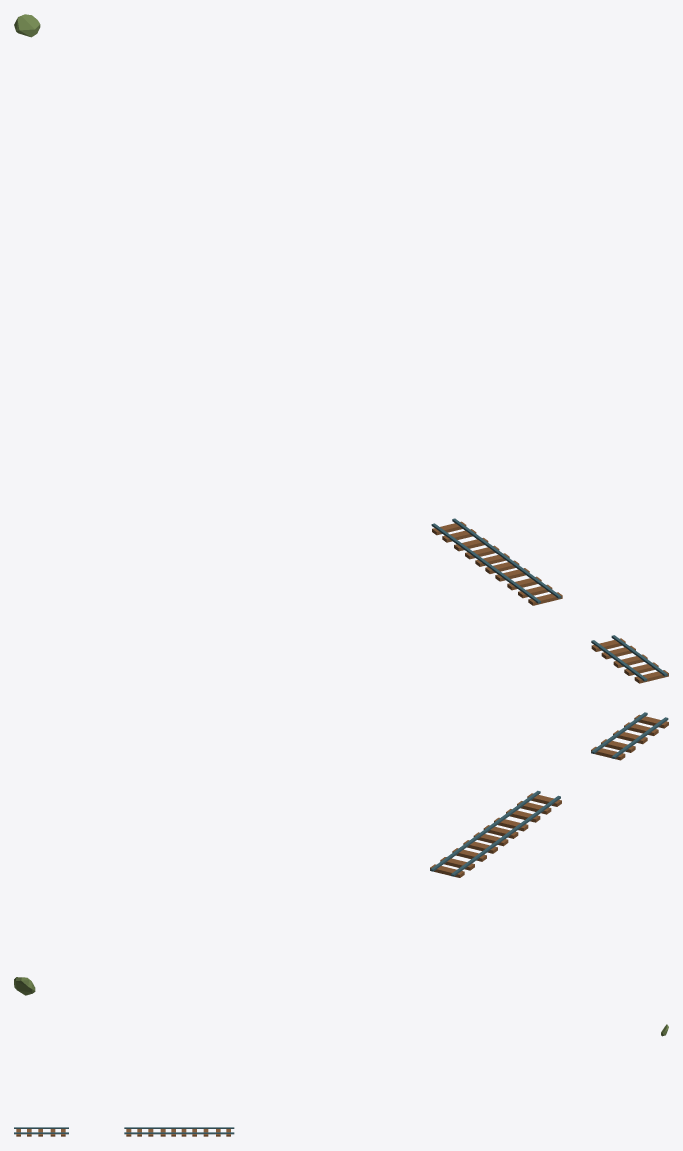
The picture shows the model from 3 angles, top to bottom: view 1: azimuth 30°, elevation 25°; view 2: azimuth 150°, elevation 25°; view 3: azimuth 270°, elevation 25°; orthographic projection. The views are drawn at different scales.
Parts seen in each view (by area): view 1: Box15351_brown_0, Box15384_brown_0, Box493_brown_0; view 2: Box15351_brown_0, Box15384_brown_0, Box493_brown_0, Box15384_metal_0, Box493_metal_0, Box15351_metal_0; view 3: Box493_metal_0, Box15351_metal_0, Box15384_metal_0, Box15351_brown_0.
Part boxes in pixels (bbox=[...]): Box15351_brown_0: bbox=[485, 560, 562, 605]; Box15384_brown_0: bbox=[591, 638, 668, 683]; Box493_brown_0: bbox=[432, 521, 509, 566]; Box15351_brown_0: bbox=[483, 793, 561, 838]; Box15384_brown_0: bbox=[591, 714, 668, 760]; Box493_brown_0: bbox=[430, 832, 508, 877]; Box15384_metal_0: bbox=[591, 712, 668, 758]; Box493_metal_0: bbox=[430, 830, 507, 876]; Box15351_metal_0: bbox=[484, 790, 560, 836]; Box493_metal_0: bbox=[179, 1127, 234, 1134]; Box15351_metal_0: bbox=[124, 1127, 179, 1134]; Box15384_metal_0: bbox=[14, 1127, 68, 1134]; Box15351_brown_0: bbox=[126, 1129, 175, 1136].
Bounding box in the file's own units: 96.73 × 643 × 3566.
